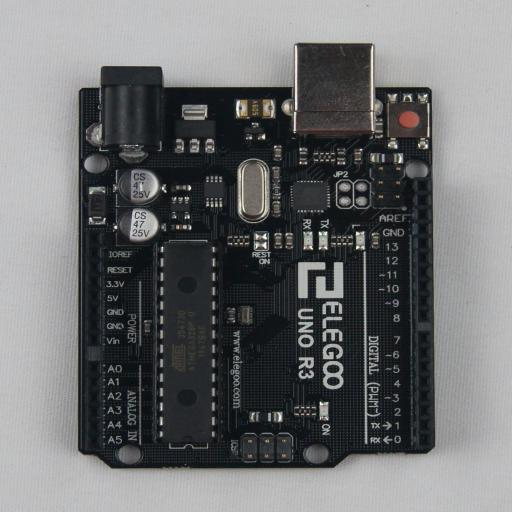Arduino Uno -Black-: (78, 43, 435, 468)
